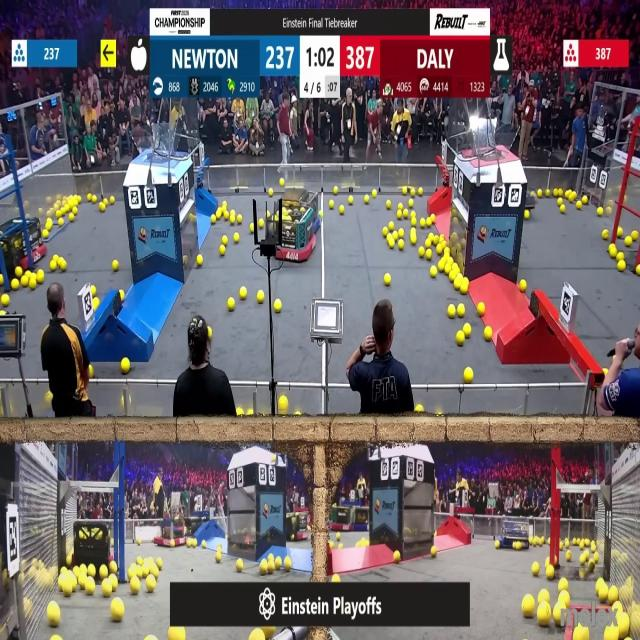ball_ground: (112, 600, 124, 622), (48, 604, 59, 628), (523, 596, 535, 617), (537, 609, 549, 628), (573, 628, 588, 640), (554, 609, 563, 627), (131, 580, 141, 596), (146, 578, 156, 594), (102, 582, 112, 598), (598, 588, 607, 604), (86, 582, 96, 596), (120, 357, 129, 372), (608, 588, 617, 603), (278, 396, 288, 409), (463, 367, 472, 381), (559, 577, 568, 590), (259, 561, 267, 575), (110, 575, 118, 589), (538, 590, 547, 602), (457, 333, 465, 346), (478, 304, 486, 317), (227, 296, 234, 310), (545, 567, 553, 579), (89, 564, 97, 576), (100, 566, 108, 578), (29, 278, 37, 290), (20, 278, 28, 290), (464, 324, 471, 337), (449, 306, 456, 319), (485, 327, 492, 340), (284, 558, 291, 571), (1, 294, 9, 305), (256, 290, 264, 301), (460, 283, 468, 294), (109, 562, 117, 573), (394, 552, 401, 564), (275, 301, 282, 313), (240, 287, 247, 299), (384, 274, 391, 286), (276, 558, 283, 570), (609, 245, 616, 257), (532, 563, 539, 575), (237, 560, 244, 572), (37, 272, 44, 284), (67, 556, 74, 568), (10, 280, 18, 290), (458, 305, 464, 318), (619, 262, 626, 273), (520, 280, 526, 292), (89, 364, 95, 376), (419, 247, 426, 257), (49, 263, 56, 273), (60, 262, 67, 272), (388, 239, 395, 249), (155, 558, 162, 568), (129, 567, 136, 577), (569, 191, 576, 201), (93, 296, 100, 306), (440, 264, 447, 274), (152, 567, 159, 577), (430, 545, 436, 556), (142, 566, 148, 577), (454, 279, 460, 290), (331, 574, 339, 582), (388, 222, 396, 230), (395, 210, 402, 219), (237, 409, 244, 418), (238, 214, 245, 223), (112, 262, 118, 272), (426, 249, 432, 259), (430, 268, 436, 278), (195, 255, 201, 265), (412, 217, 418, 227), (412, 236, 418, 246), (566, 553, 572, 563), (232, 214, 238, 224), (14, 268, 20, 278), (579, 555, 585, 565), (45, 219, 51, 229), (416, 406, 423, 414), (596, 208, 603, 216), (410, 210, 417, 218), (361, 538, 368, 546), (219, 246, 225, 255), (386, 201, 392, 210), (397, 241, 403, 250), (402, 209, 408, 218), (632, 232, 638, 241), (363, 194, 369, 203), (221, 236, 227, 245), (100, 203, 106, 212), (436, 244, 442, 253), (392, 232, 398, 241), (186, 538, 192, 547), (182, 255, 188, 264), (269, 554, 275, 563), (445, 247, 451, 256), (452, 265, 458, 274), (235, 234, 240, 244), (93, 286, 98, 296), (216, 553, 221, 563), (525, 210, 530, 220), (398, 230, 403, 240), (421, 217, 426, 227), (427, 216, 432, 226), (450, 272, 455, 282), (89, 192, 94, 202), (602, 232, 608, 240), (626, 238, 632, 246), (560, 206, 566, 214), (536, 188, 542, 196), (575, 202, 581, 210), (69, 214, 75, 222), (247, 410, 253, 418), (425, 240, 431, 248), (269, 188, 275, 196), (72, 208, 78, 216), (544, 188, 550, 196), (514, 541, 520, 549), (42, 231, 48, 239), (619, 252, 625, 260), (93, 197, 99, 205), (557, 199, 563, 207), (412, 227, 418, 235), (349, 197, 354, 206), (258, 219, 263, 228), (618, 229, 623, 238), (216, 210, 221, 219), (0, 275, 4, 286), (208, 327, 212, 338), (110, 198, 116, 205), (418, 188, 424, 195), (554, 188, 560, 195), (531, 190, 537, 197), (636, 266, 640, 276), (495, 540, 500, 548), (328, 201, 333, 209), (119, 290, 123, 300), (544, 558, 549, 566), (222, 212, 227, 220), (222, 202, 227, 210), (411, 188, 416, 196), (331, 187, 337, 193), (371, 190, 376, 197), (584, 198, 589, 205), (60, 218, 65, 225), (383, 225, 388, 232), (137, 557, 142, 564), (398, 203, 403, 210), (401, 187, 406, 194), (171, 540, 176, 547), (428, 234, 433, 241), (341, 206, 345, 214), (250, 223, 254, 231), (212, 215, 216, 223), (410, 200, 414, 208), (338, 532, 342, 540), (560, 541, 564, 549), (604, 366, 608, 374), (320, 210, 324, 218), (57, 210, 61, 218), (203, 540, 207, 547), (280, 179, 284, 186), (268, 211, 272, 218), (51, 636, 58, 640), (146, 636, 153, 640), (330, 541, 334, 548), (340, 542, 344, 548), (0, 311, 4, 317), (137, 538, 141, 544)
goal: (464, 122, 521, 160), (128, 129, 188, 160)
robot_blue: (75, 520, 109, 566), (498, 514, 531, 549), (183, 515, 207, 540), (354, 508, 369, 532)
robot_red: (266, 187, 318, 261), (156, 518, 187, 546), (285, 512, 308, 542), (332, 507, 354, 532)
